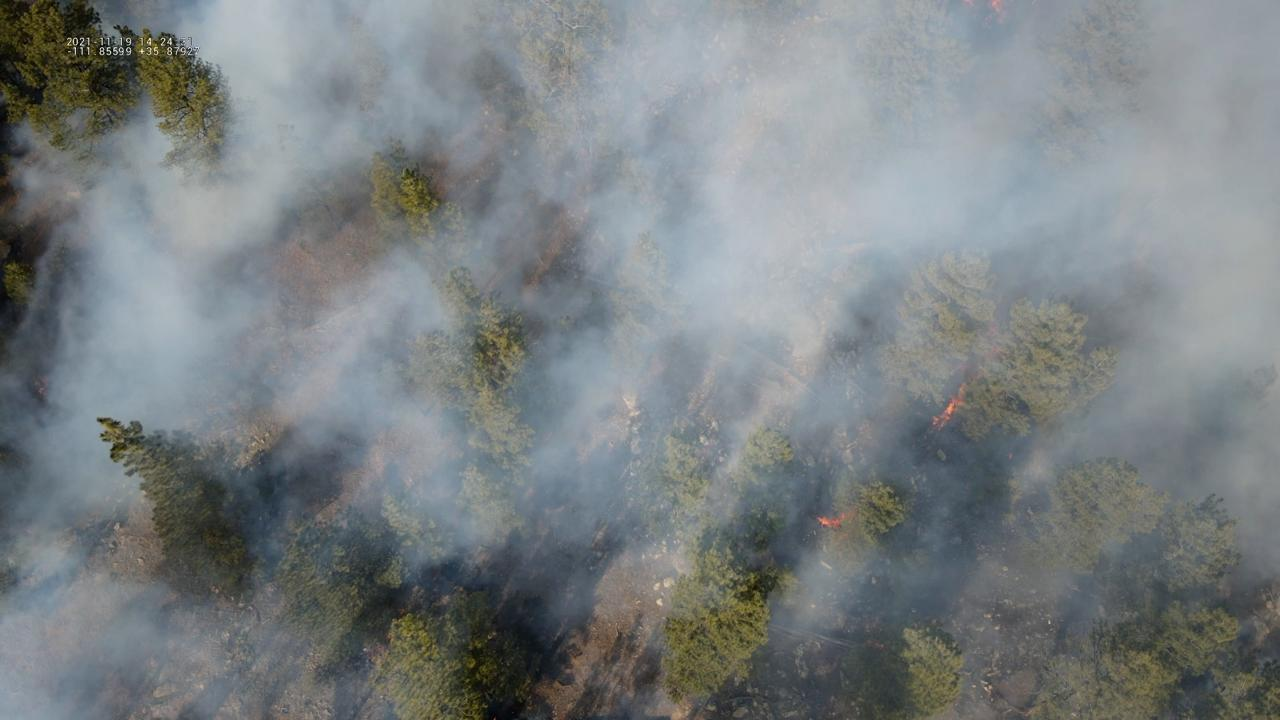fire: (928, 380, 969, 436), (813, 508, 847, 530), (990, 0, 1003, 11)
smoke: (0, 0, 1280, 720)
